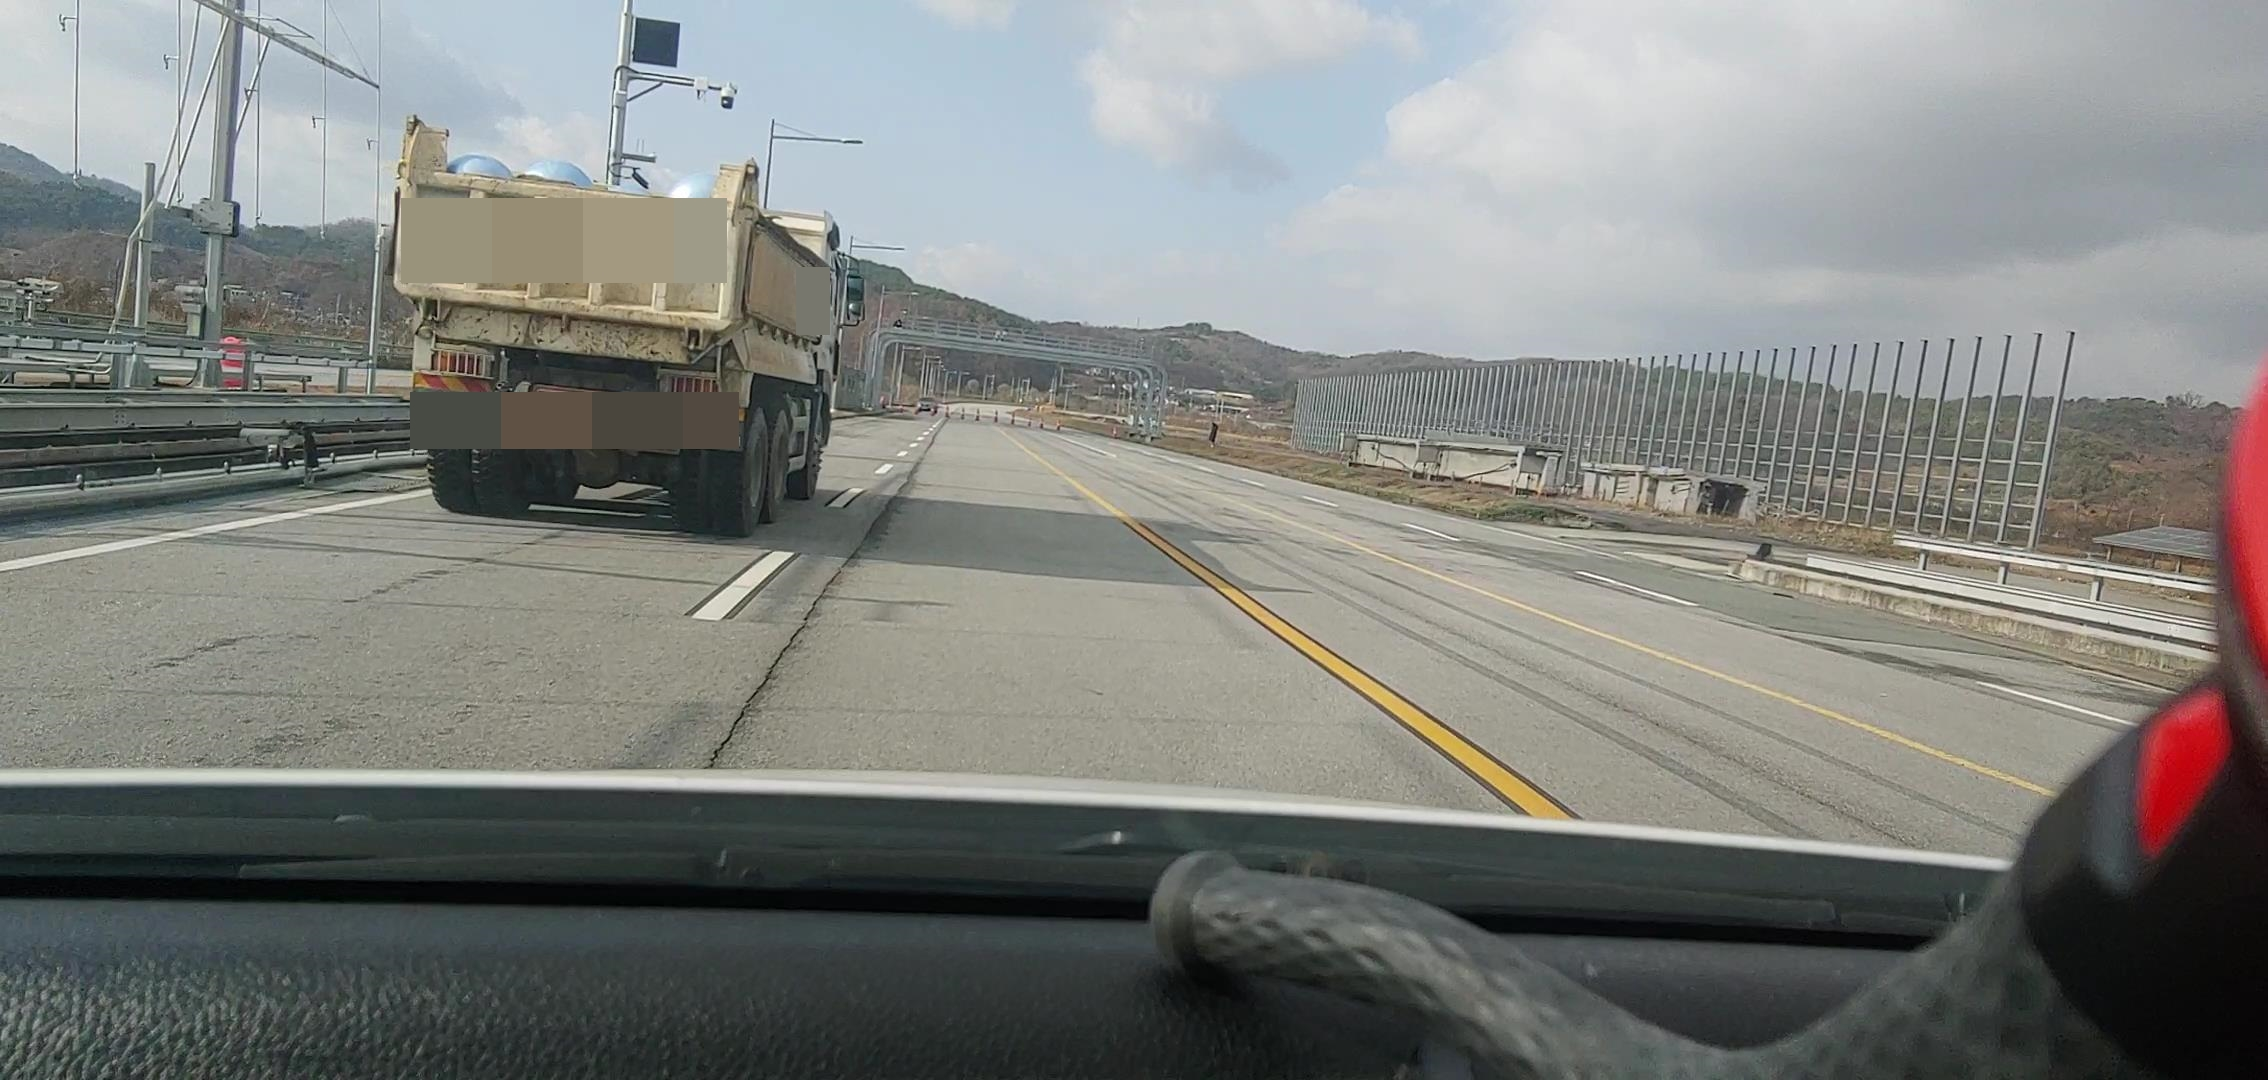불법차량: (384, 116, 864, 538)
